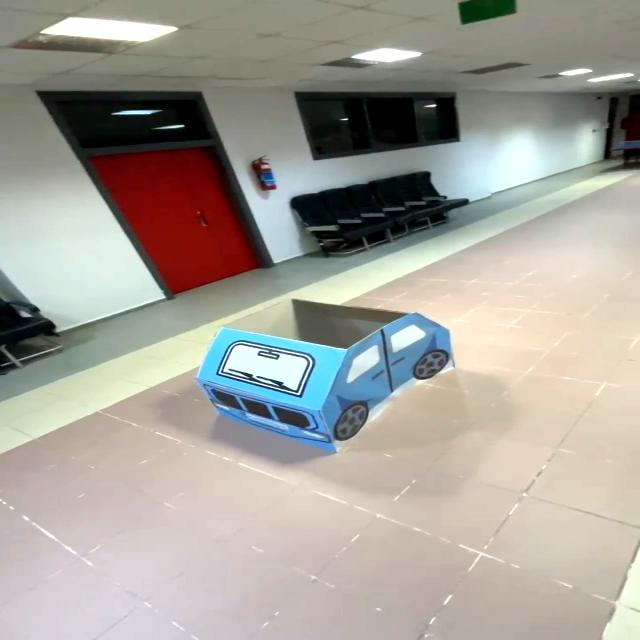blue_car: (149, 274, 488, 469)
